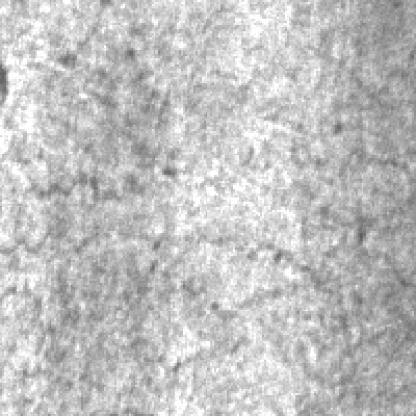crazing: (13, 22, 190, 212), (4, 227, 366, 310)
